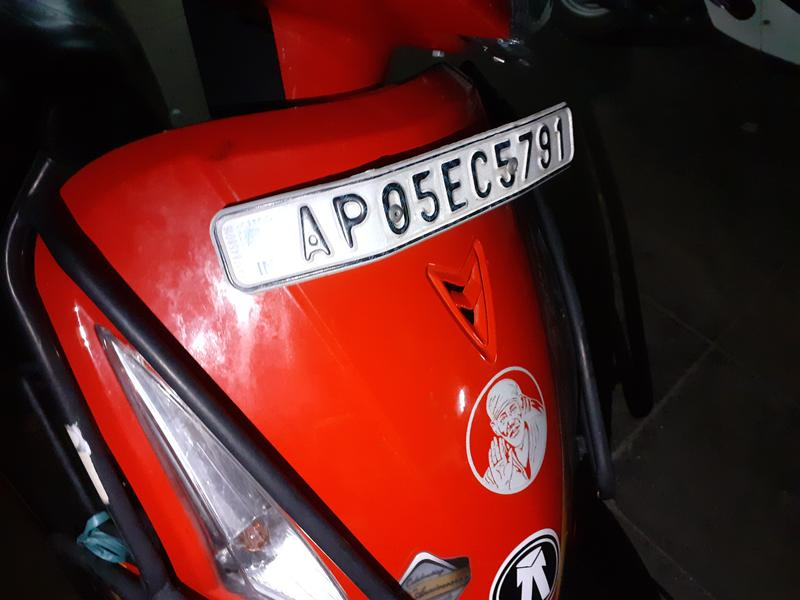numberplate: (227, 103, 588, 269)
